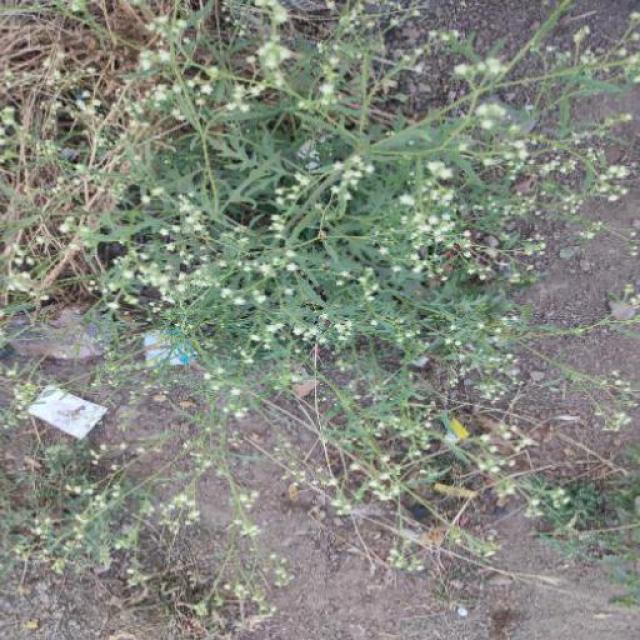weed: (23, 10, 622, 631)
